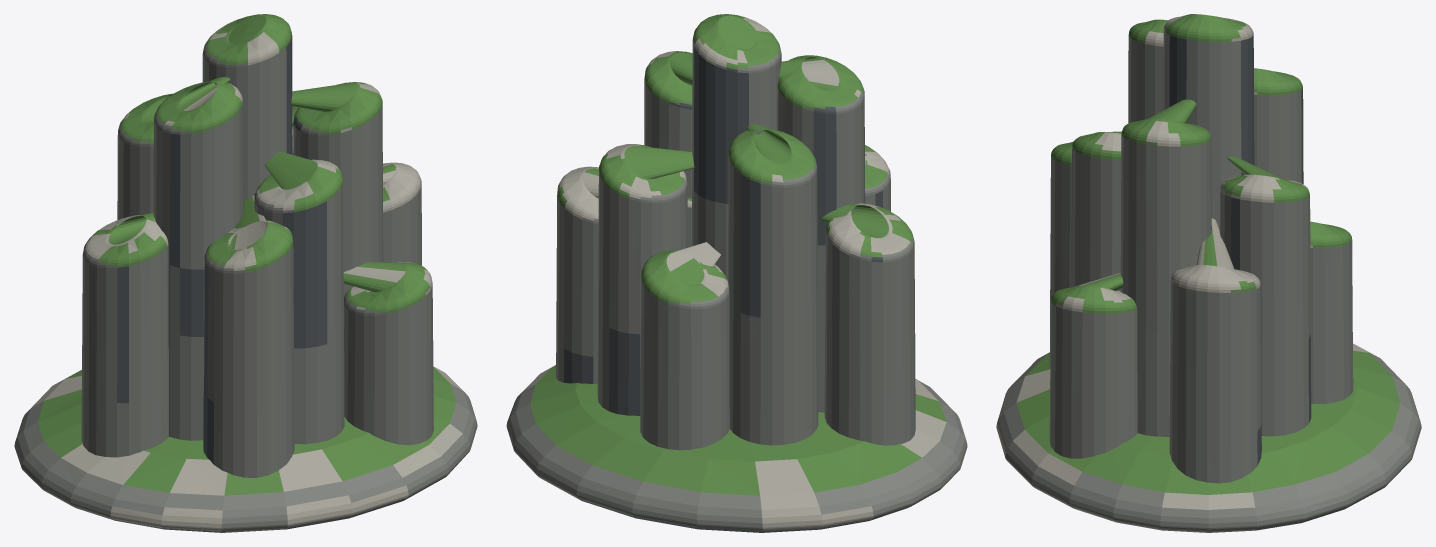
File: CliffPiece.obj
3 renders of one model, left to right at view 1: azimuth 30°, elevation 25°; view 2: azimuth 150°, elevation 25°; view 3: azimuth 270°, elevation 25°, orthographic.
Size of the model in its own units: 6.8 by 7.08 by 6.04.
